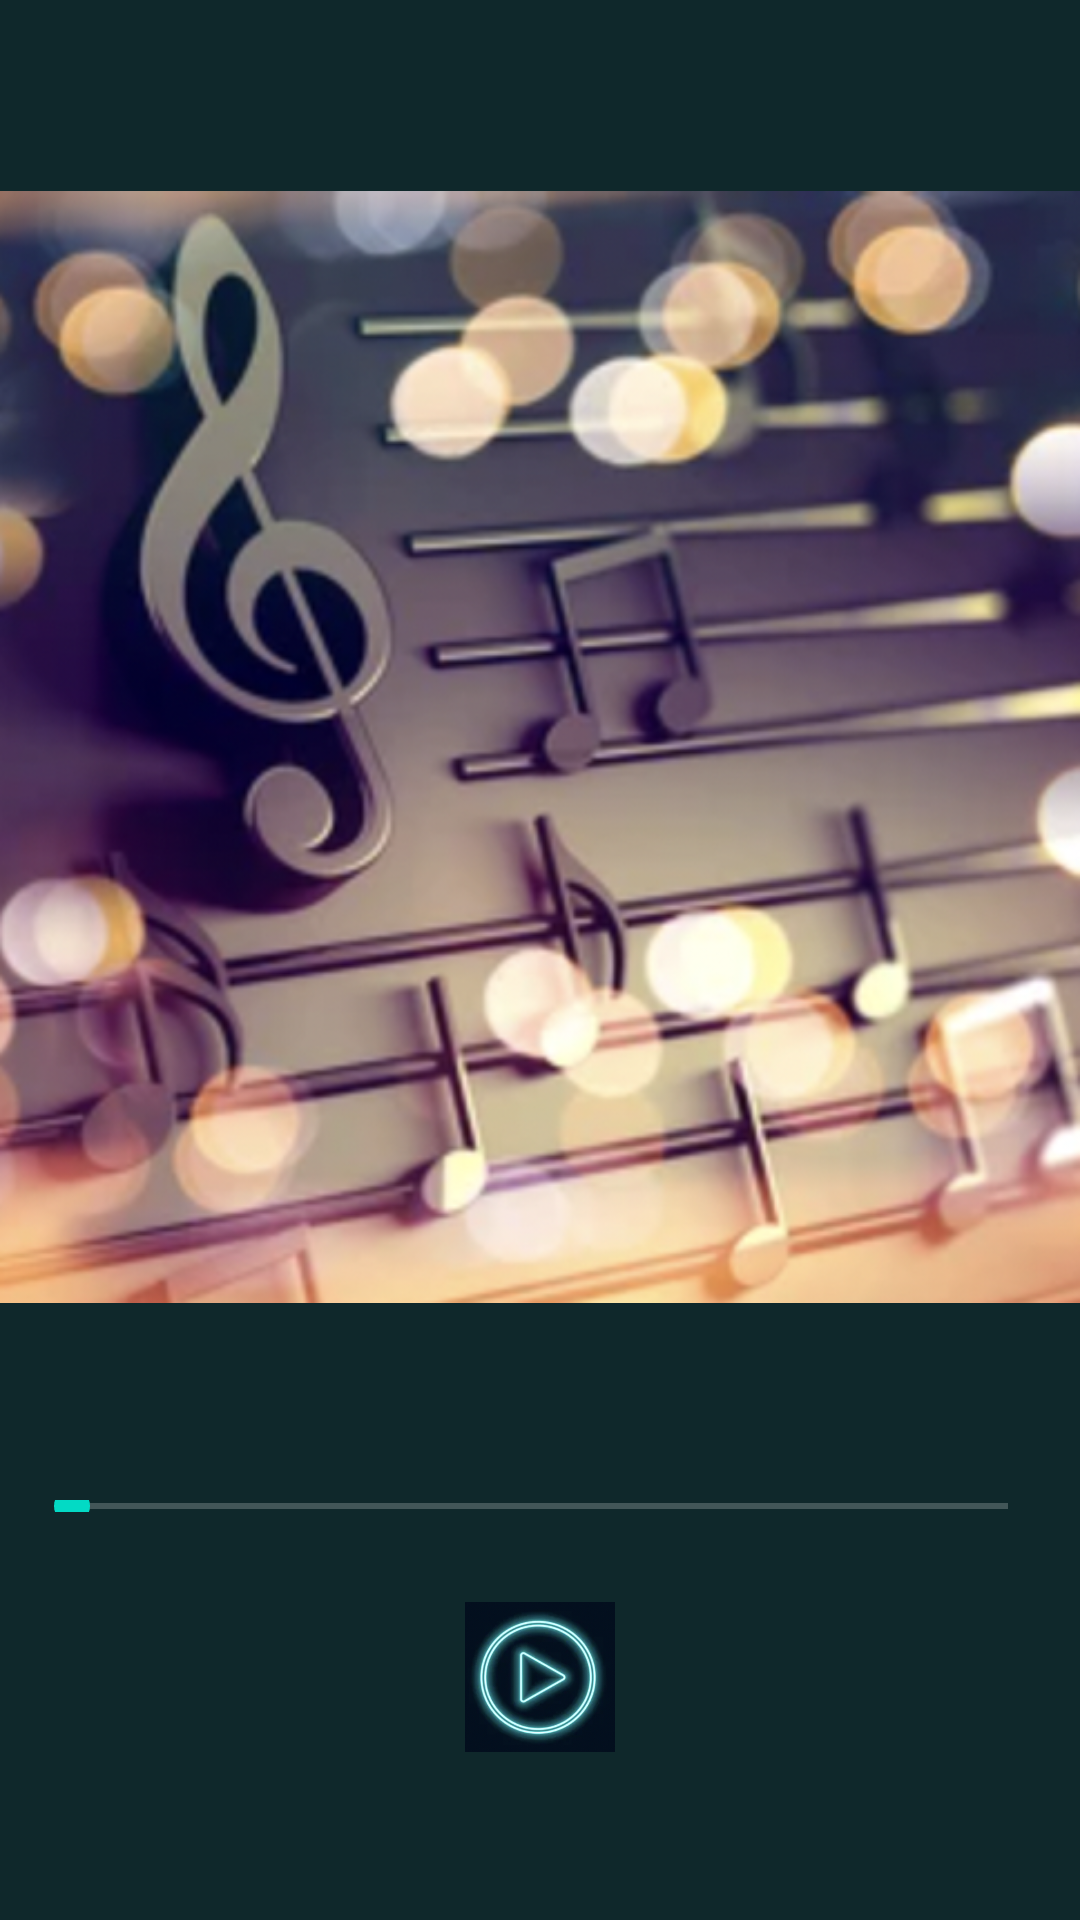

Icon bounding boxes for this 1080w x 1920h phone screenshot, format box(x1, y1, x2, y2):
play: box(465, 1602, 615, 1752)
